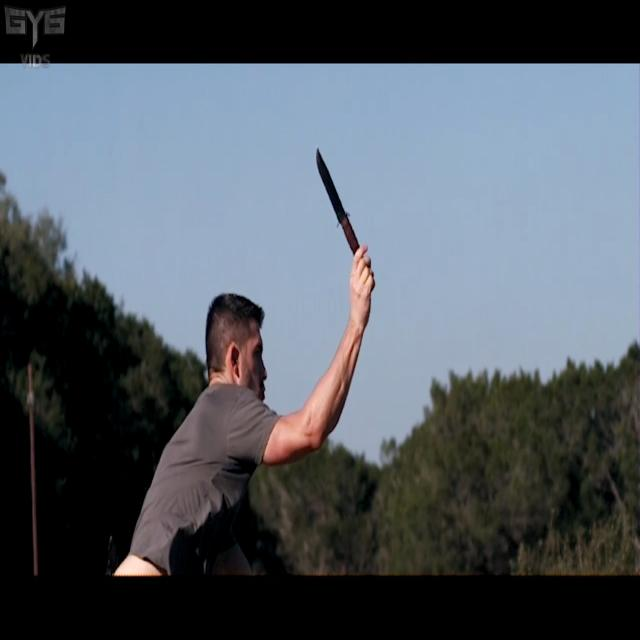knife: (314, 147, 362, 256)
